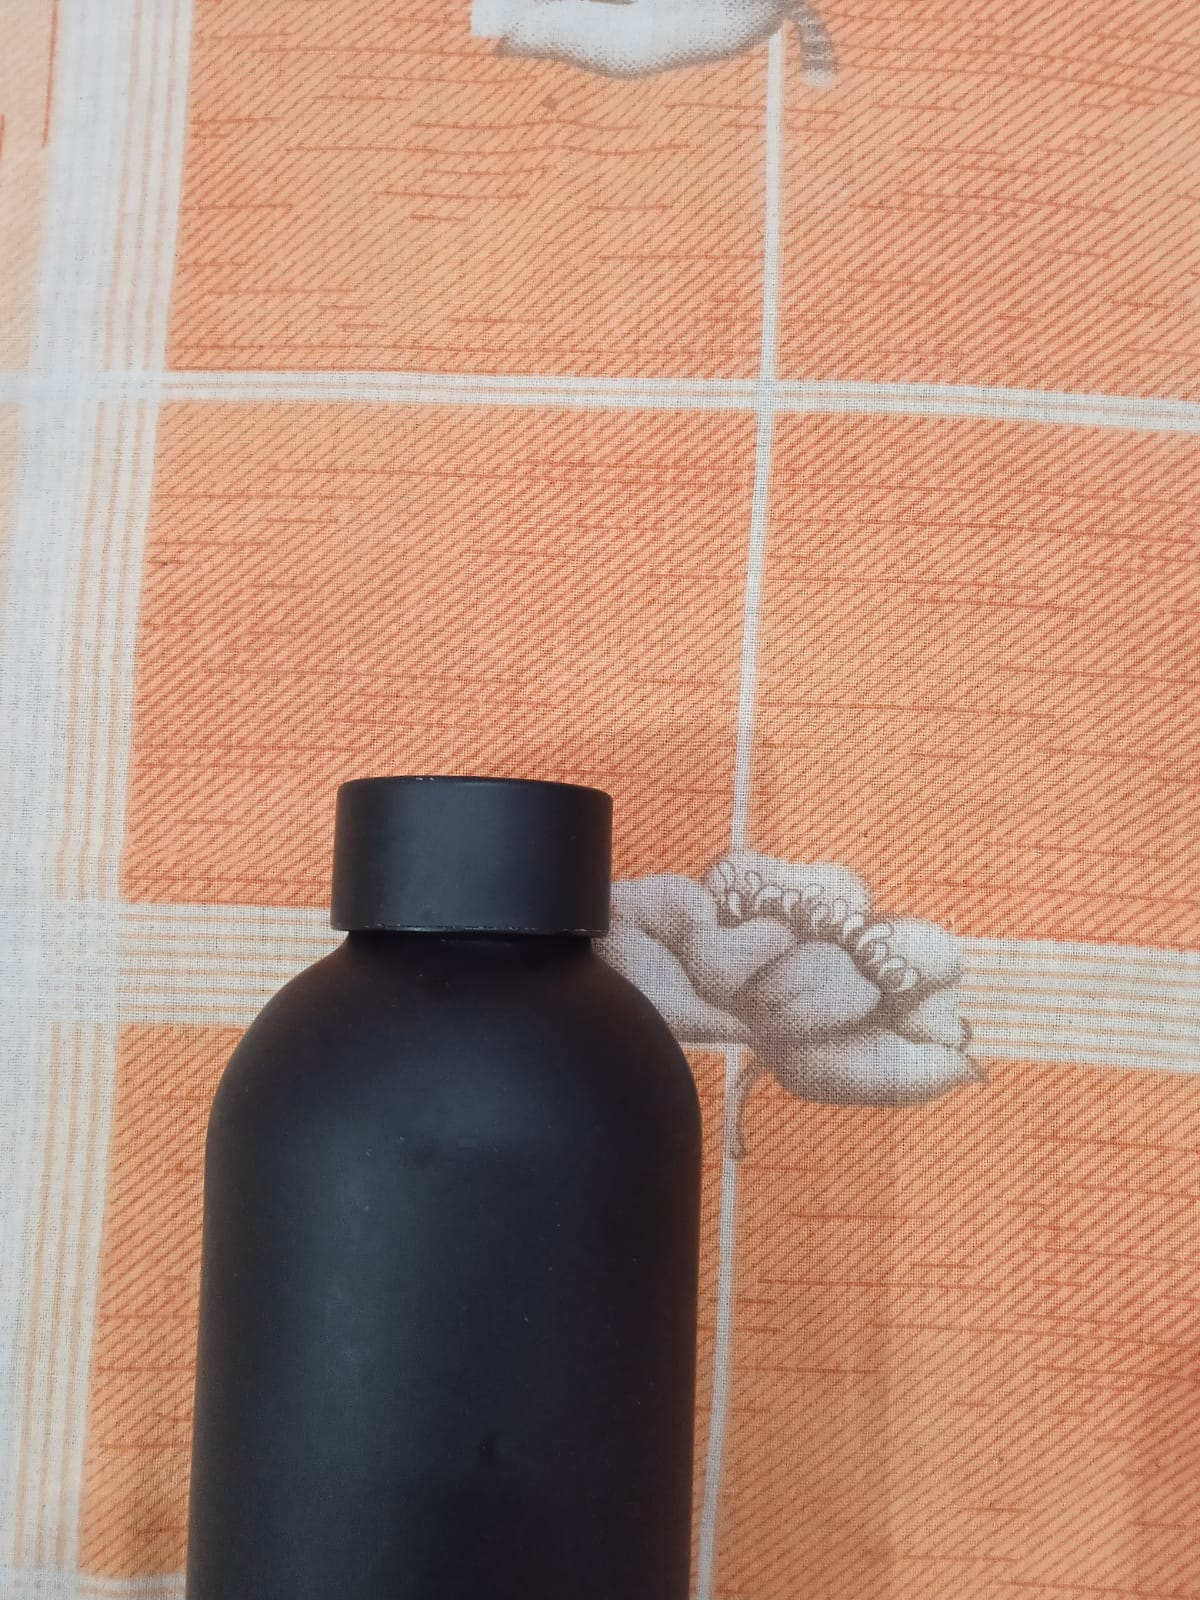person: (175, 738, 768, 1538)
